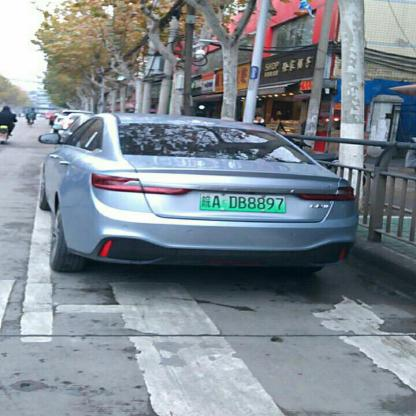lp: (200, 193, 286, 212)
